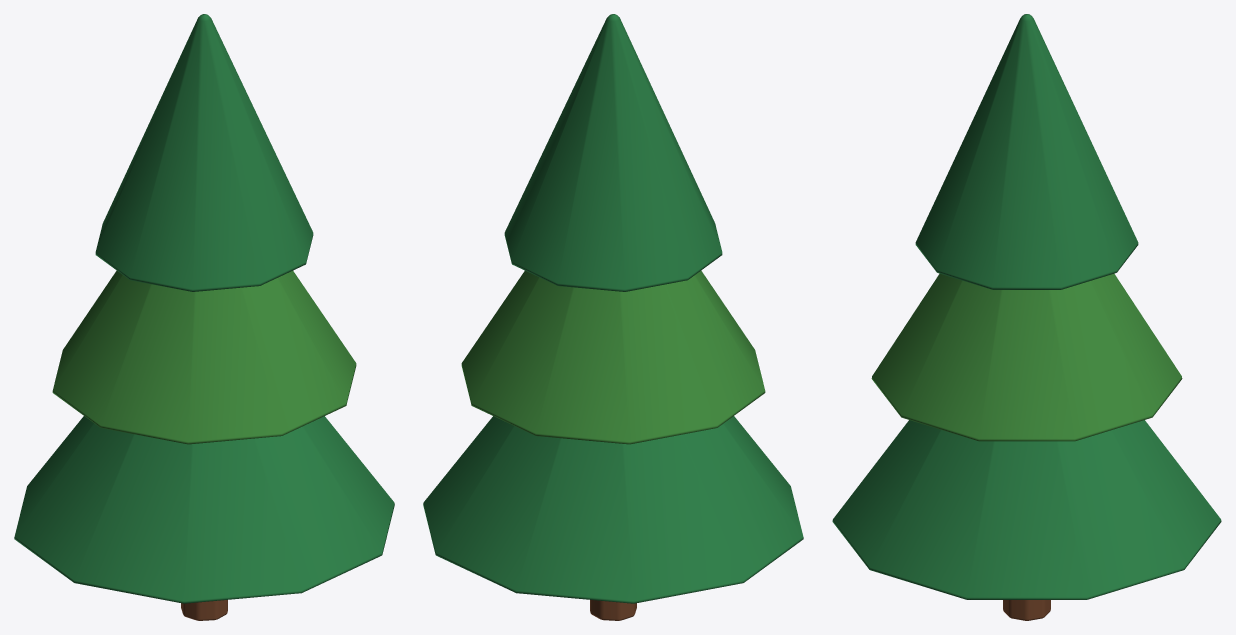
Rendered from faire_pine.glb.
3 renders of one model, left to right at view 1: azimuth 30°, elevation 25°; view 2: azimuth 150°, elevation 25°; view 3: azimuth 270°, elevation 25°, orthographic.
Parts seen in each view (by area): view 1: Pine; view 2: Pine; view 3: Pine.
Part boxes in pixels (bbox=[...]): Pine: bbox=[14, 14, 394, 620]; Pine: bbox=[423, 14, 803, 620]; Pine: bbox=[832, 14, 1221, 620].
Size of the model in its own units: 3.76 by 6.7 by 3.95.
